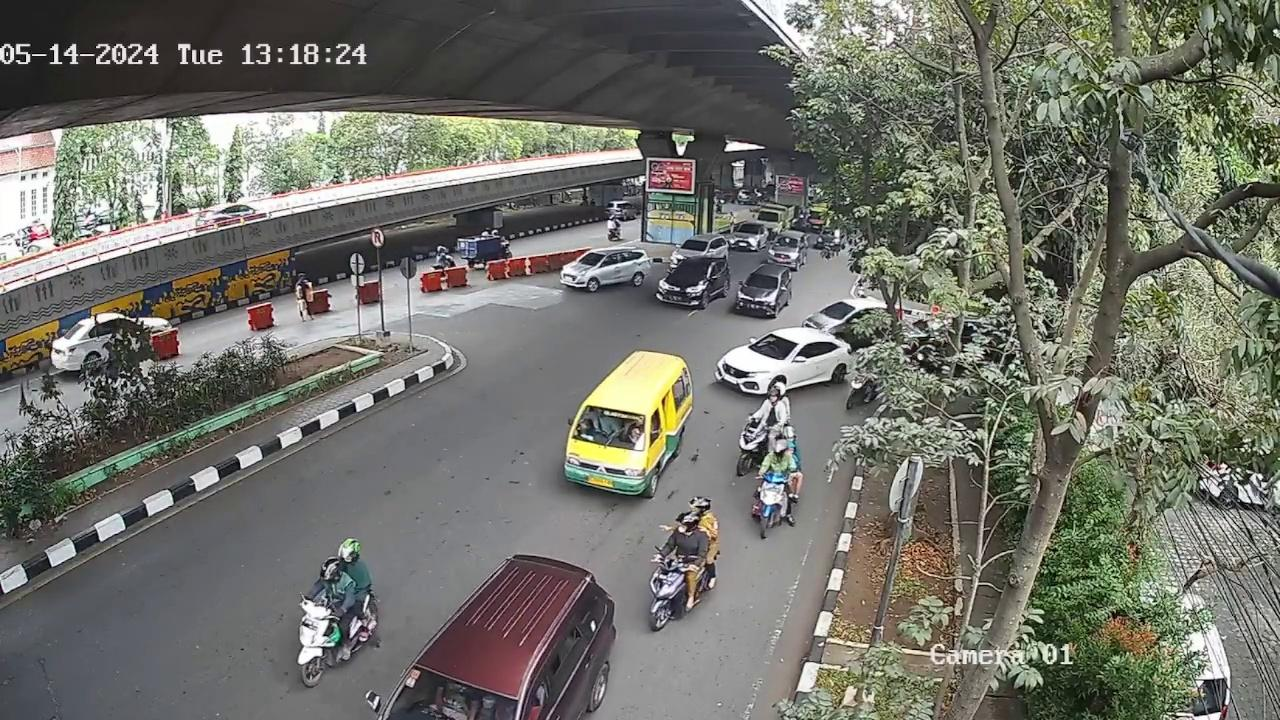pakai: (590, 415, 622, 438)
windshield: (570, 406, 648, 453)
